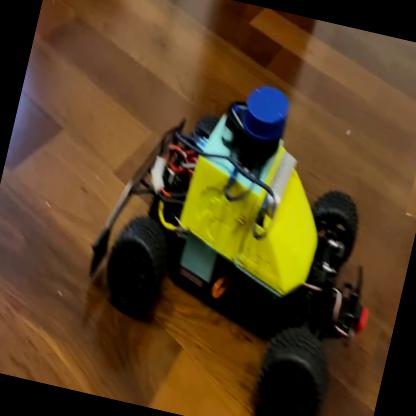mushr_car: (64, 47, 415, 415)
